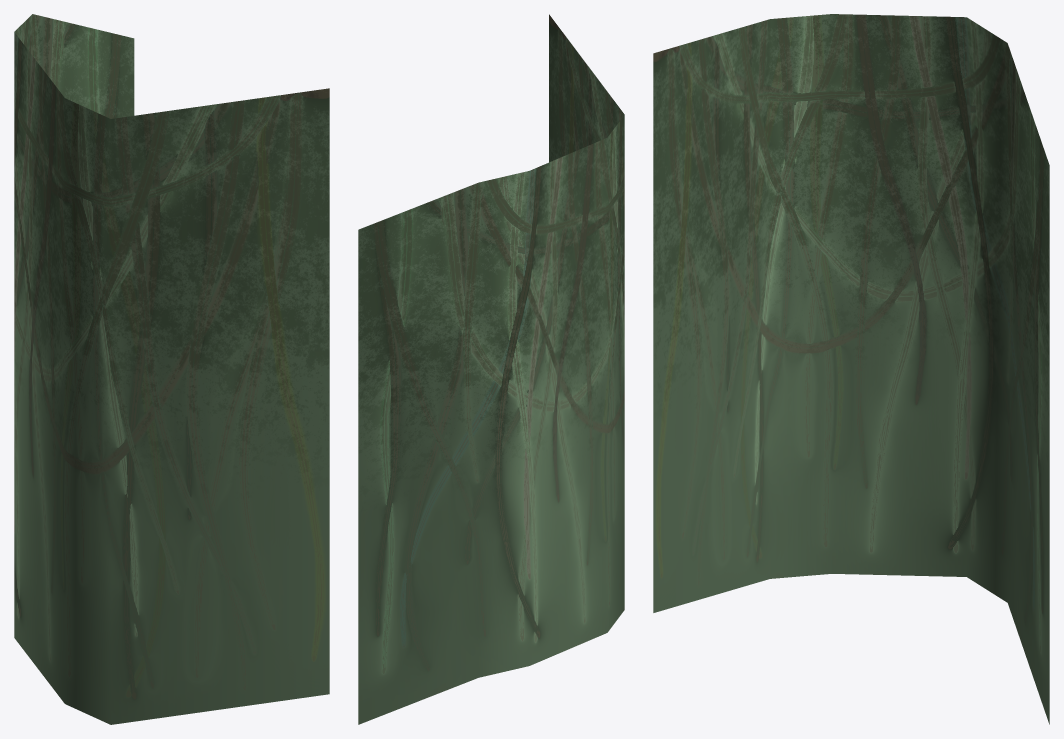
File: lianes_03.FBX
3 views of the same model, side by side, from view 1: azimuth 30°, elevation 25°; view 2: azimuth 150°, elevation 25°; view 3: azimuth 270°, elevation 25° (orthographic). The views are drawn at different scales.
Parts seen in each view (by area): view 1: Object001; view 2: Object001; view 3: Object001.
Part boxes in pixels (x1,y1,x2,y2): Object001: (14, 14, 329, 724); Object001: (358, 14, 624, 724); Object001: (653, 14, 1049, 724).
Bounding box in the file's own units: 223 × 817 × 442.
Materials: 1 (1 with a texture image).
